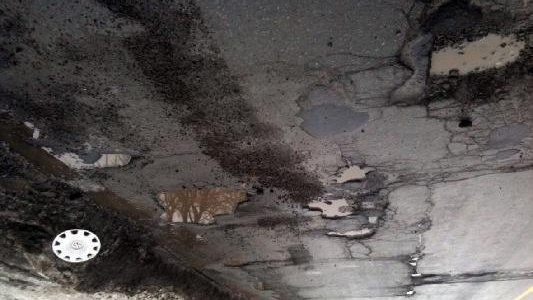pothole: (421, 28, 531, 110), (154, 185, 252, 227), (305, 197, 353, 223), (91, 151, 135, 173), (333, 163, 374, 186), (323, 226, 374, 242)
